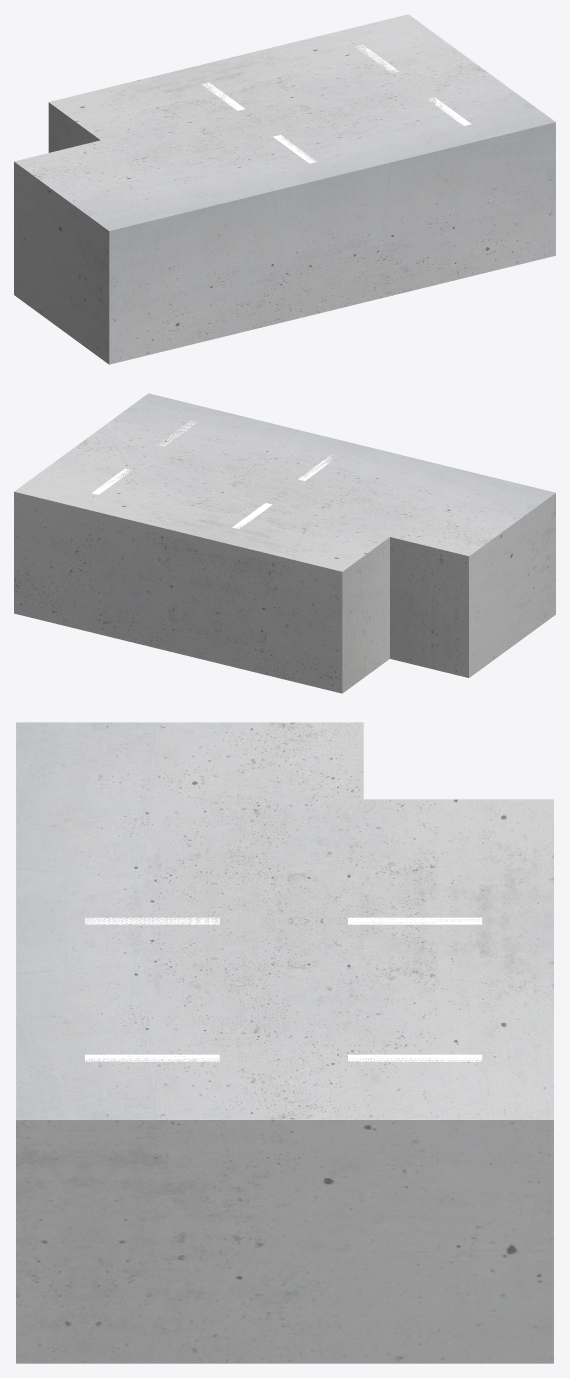
File: new-space.gltf
The picture shows the model from 3 angles, top to bottom: view 1: azimuth 30°, elevation 25°; view 2: azimuth 150°, elevation 25°; view 3: azimuth 270°, elevation 25°; orthographic projection. The views are drawn at different scales.
Visible parts, largest first — view 1: Walls, Ceiling; view 2: Walls, Ceiling; view 3: Ceiling, Walls, Light.003, Light, Light.001, Light.002.
Part boxes in pixels (x1,y1,x2,y2): Walls: (14, 102, 555, 364); Ceiling: (14, 14, 555, 230); Walls: (14, 492, 555, 693); Ceiling: (14, 393, 555, 571); Ceiling: (16, 722, 553, 1119); Walls: (16, 1120, 553, 1363); Light.003: (85, 1054, 219, 1061); Light: (348, 917, 482, 924); Light.001: (348, 1054, 482, 1061); Light.002: (85, 917, 219, 924).
Size of the model in its own units: 14 by 4 by 8.
Materials: 2 (1 with a texture image).
